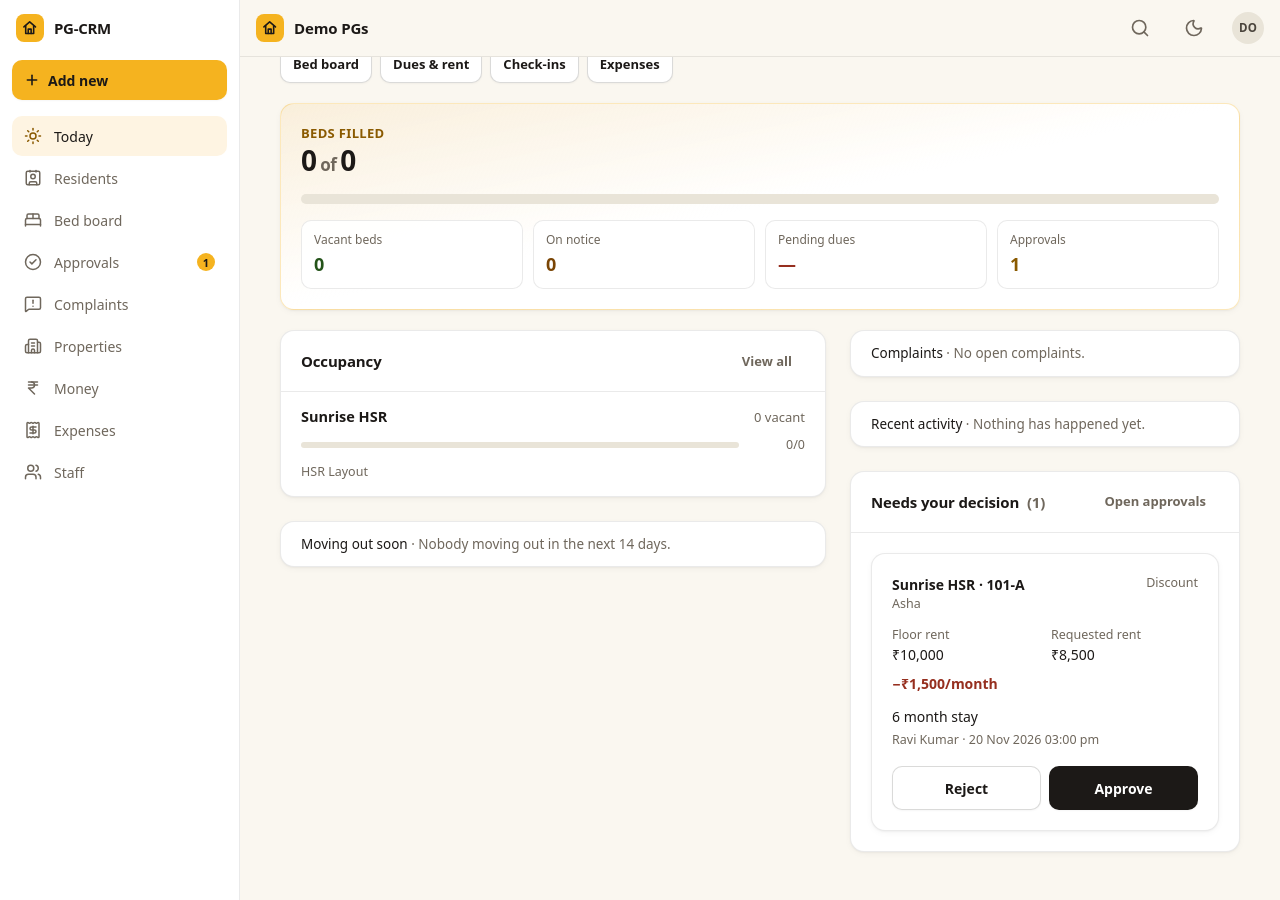
it: FE-04 Home screens › [FE-04/AC4] Owner home shows pending approvals count and lets owner approve or reject inline
(page scrolled)
Check: the text "(1)" is shown, box [1027,492,1045,512]
Click the button "Approve".
click(1124, 788)  # box [1049,766,1198,810]
(page scrolled)
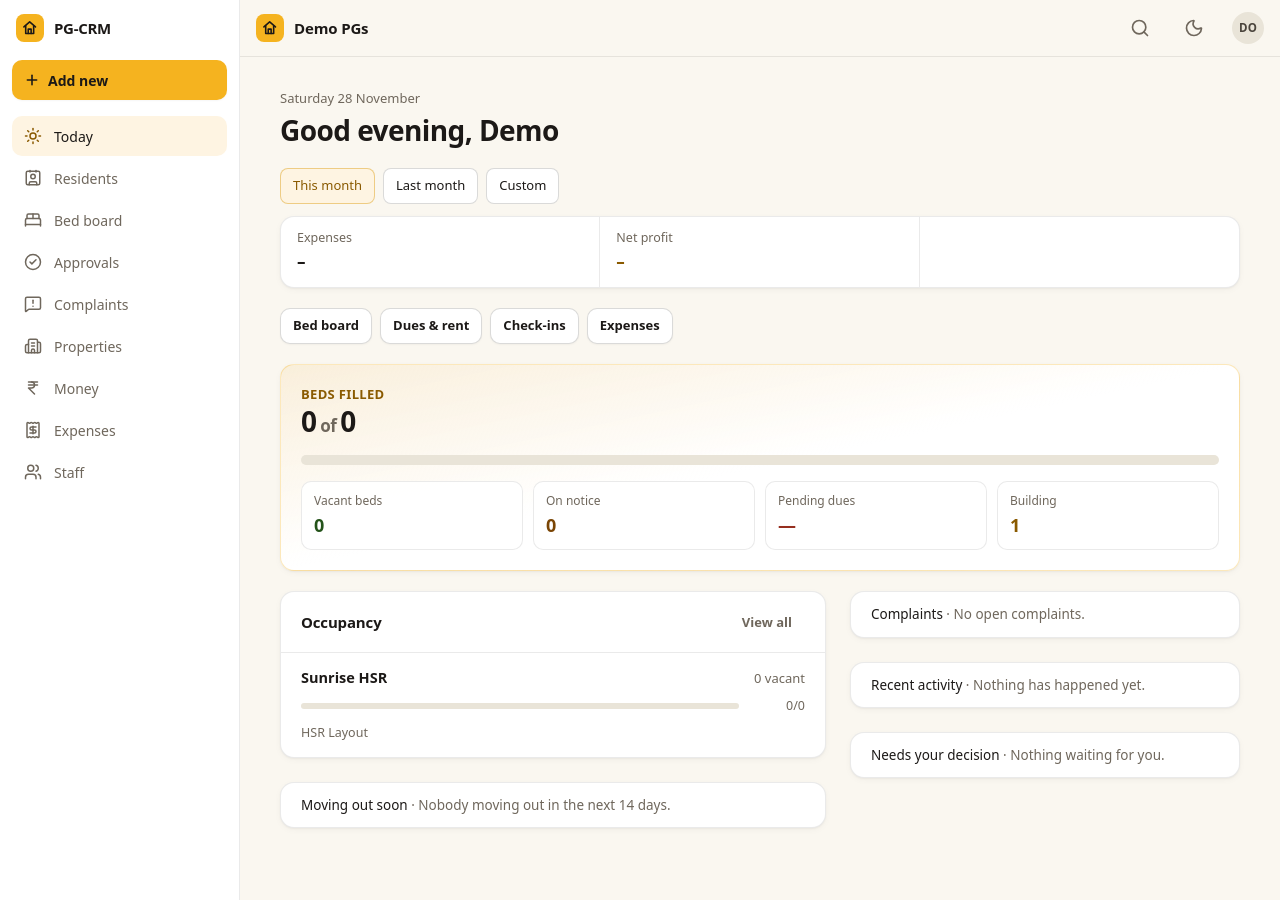
Check: the text "Needs your decision · Nothing waiting for you." is shown, box [871,746,1165,764]
